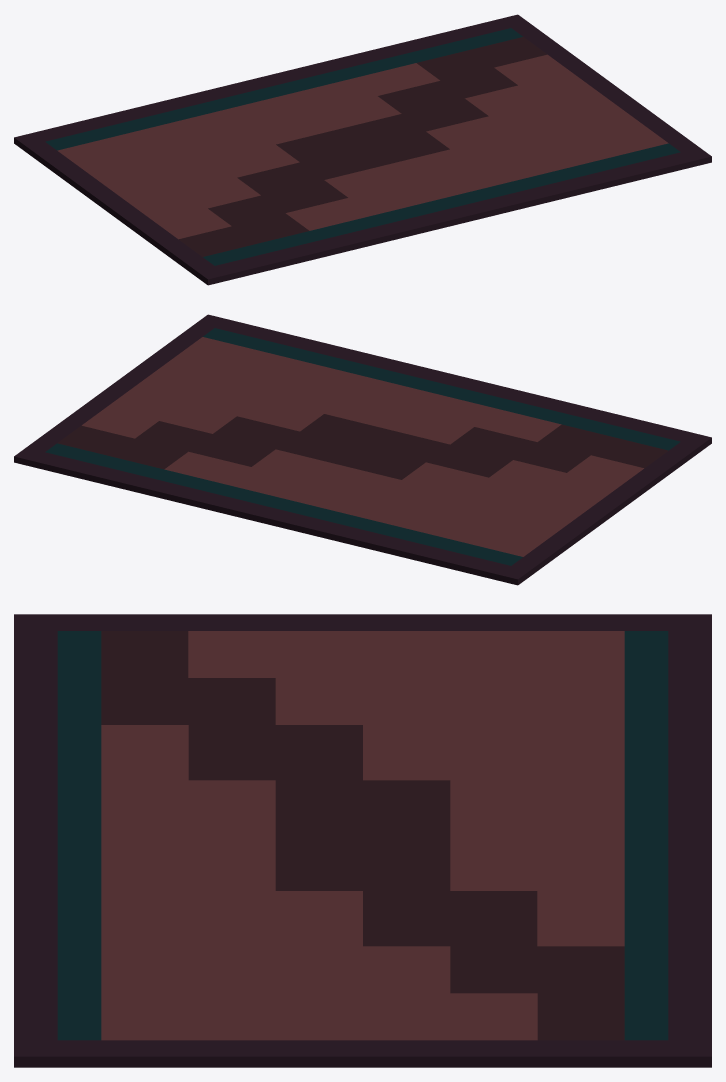
Rendered from Bar Rug.fbx.
The picture shows the model from 3 angles, top to bottom: view 1: azimuth 30°, elevation 25°; view 2: azimuth 150°, elevation 25°; view 3: azimuth 270°, elevation 25°; orthographic projection. The views are drawn at different scales.
Visible parts, largest first — view 1: Bar Rug; view 2: Bar Rug; view 3: Bar Rug.
Part boxes in pixels (x1,y1,x2,y2): Bar Rug: (14, 14, 711, 285); Bar Rug: (14, 314, 711, 585); Bar Rug: (14, 614, 711, 1067).
Bounding box in the file's own units: 6000 × 68.81 × 4000.
